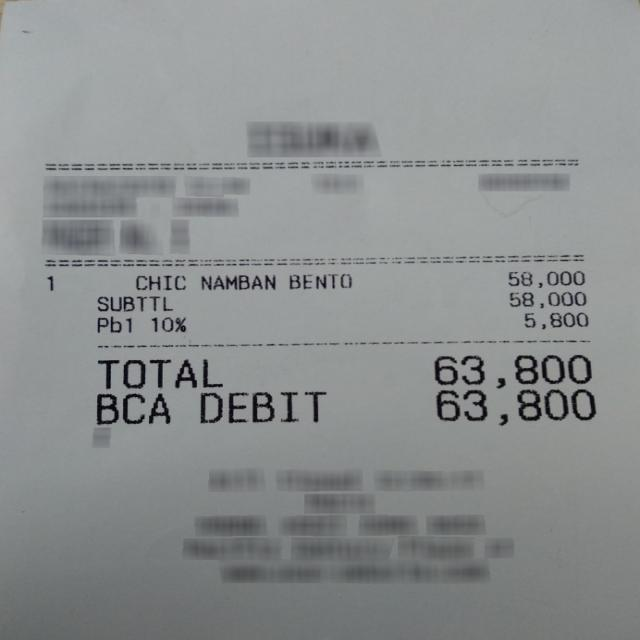text: (436, 384, 594, 424), (434, 354, 590, 392), (95, 356, 226, 389), (198, 390, 328, 422), (95, 390, 171, 425), (506, 270, 584, 288), (508, 290, 584, 306), (95, 294, 170, 310), (200, 273, 274, 289), (522, 312, 586, 328), (288, 272, 350, 287), (134, 274, 183, 288), (96, 316, 130, 330), (151, 316, 184, 330), (44, 272, 56, 290)
